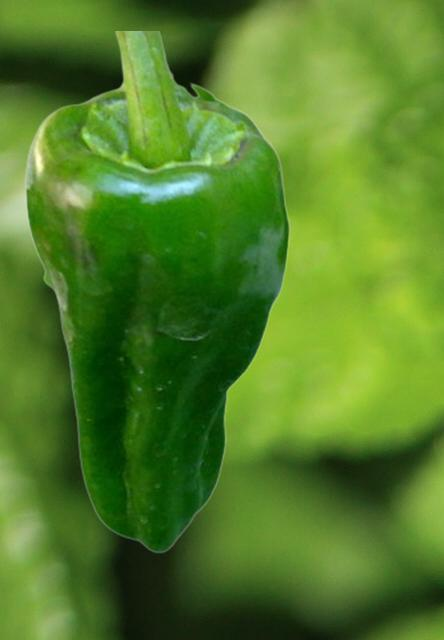bell_pepper: (23, 31, 290, 553)
